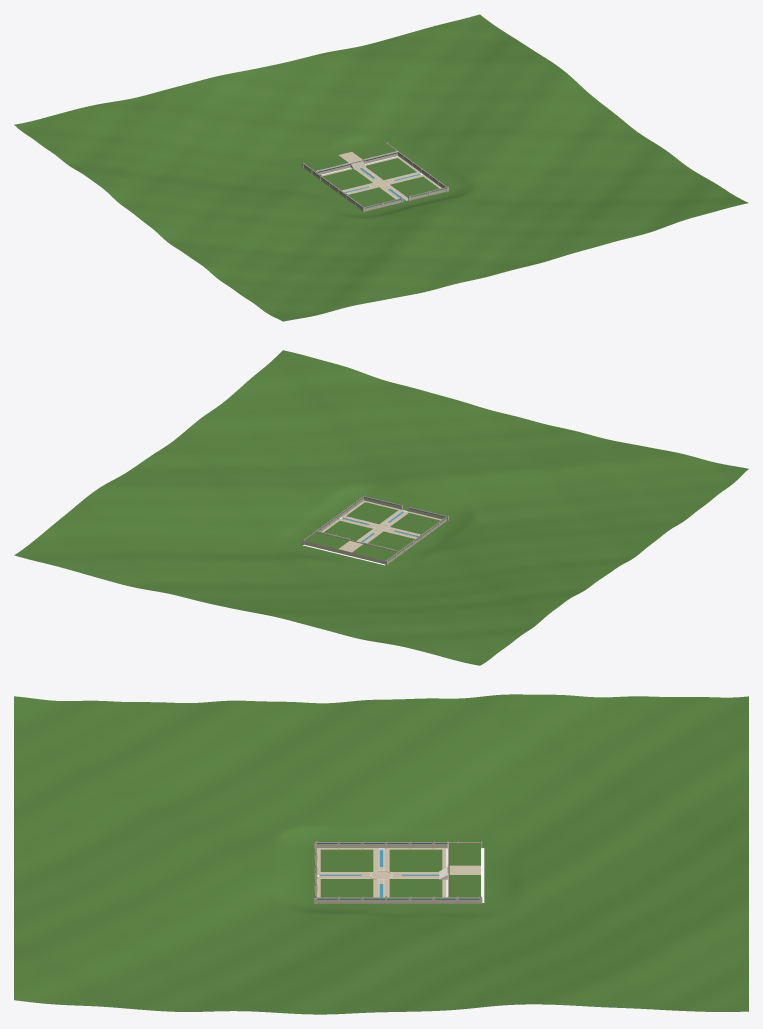
The model's file is ZB_sahne_carbag.glb.
3 views of the same model, one above another, from view 1: azimuth 30°, elevation 25°; view 2: azimuth 150°, elevation 25°; view 3: azimuth 270°, elevation 25° (orthographic). The views are drawn at different scales.
Parts seen in each view (by area): view 1: zemin_dis, zemin_bahce, tas; view 2: zemin_dis, zemin_bahce, tas; view 3: zemin_dis, zemin_bahce, tas.
Boxes of the visible parts, x1,y1,x2,y2 form: zemin_dis: (14,14,748,321); zemin_bahce: (305,143,439,206); tas: (302,142,448,211); zemin_dis: (14,350,748,665); zemin_bahce: (304,502,440,560); tas: (302,495,448,564); zemin_dis: (14,694,748,1014); zemin_bahce: (320,843,480,897); tas: (314,840,482,903).
Size of the model in its own units: 340 by 16.43 by 340.
